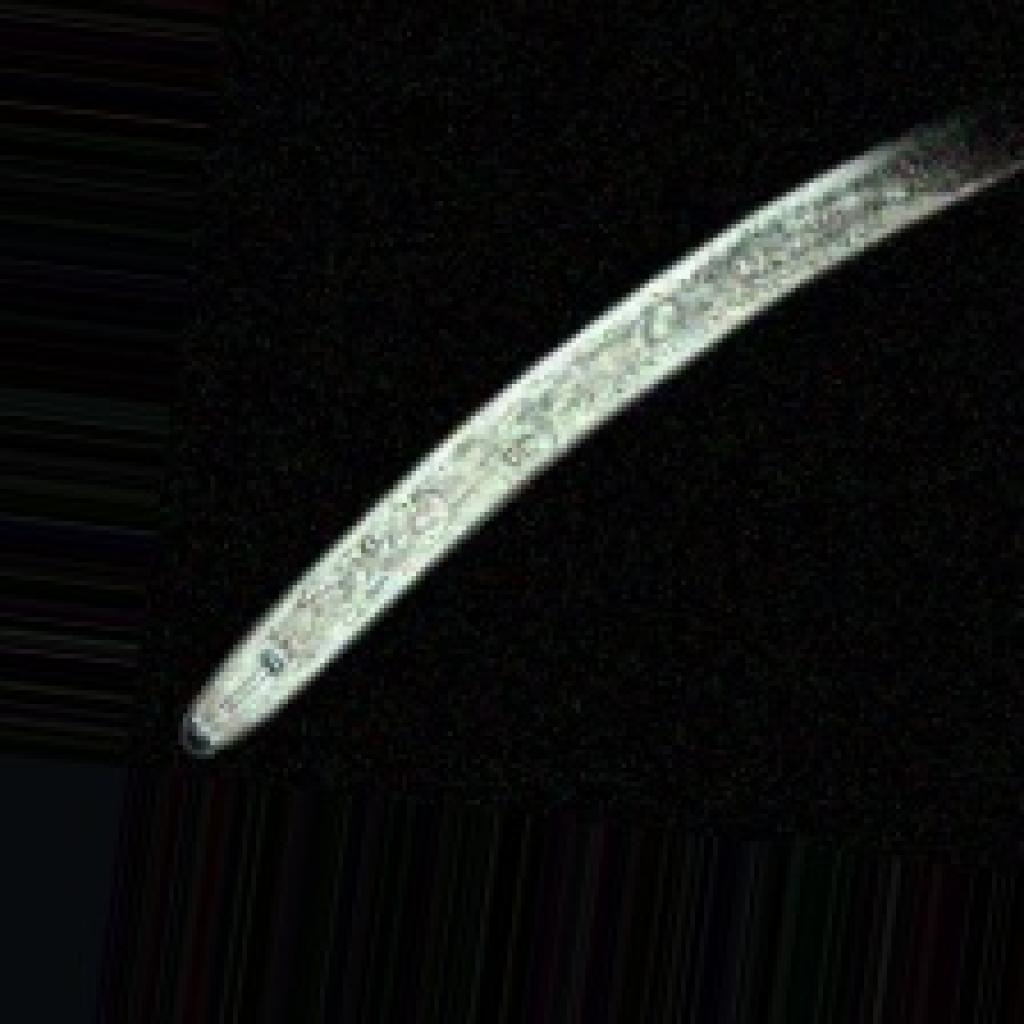Nematode: (169, 9, 1020, 768)
